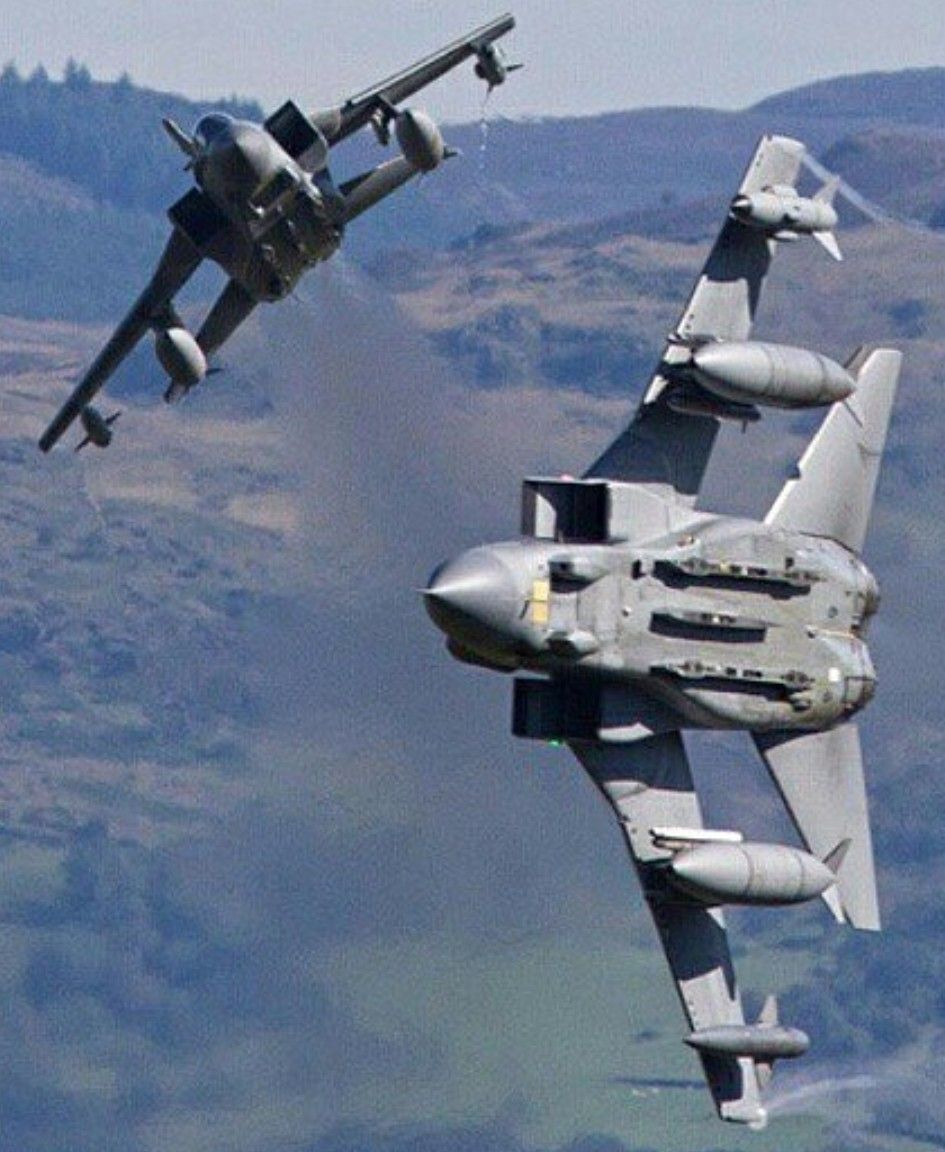Tornado: (409, 133, 903, 1125), (37, 11, 525, 455)
